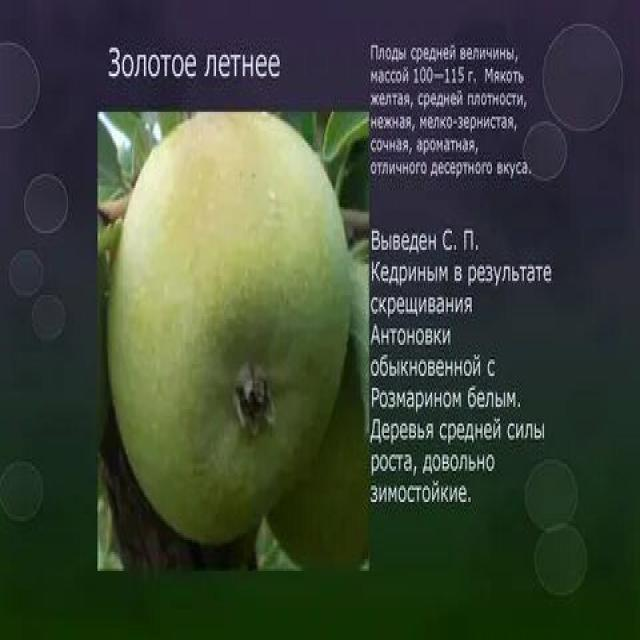Healty Apple: (111, 112, 349, 547)
